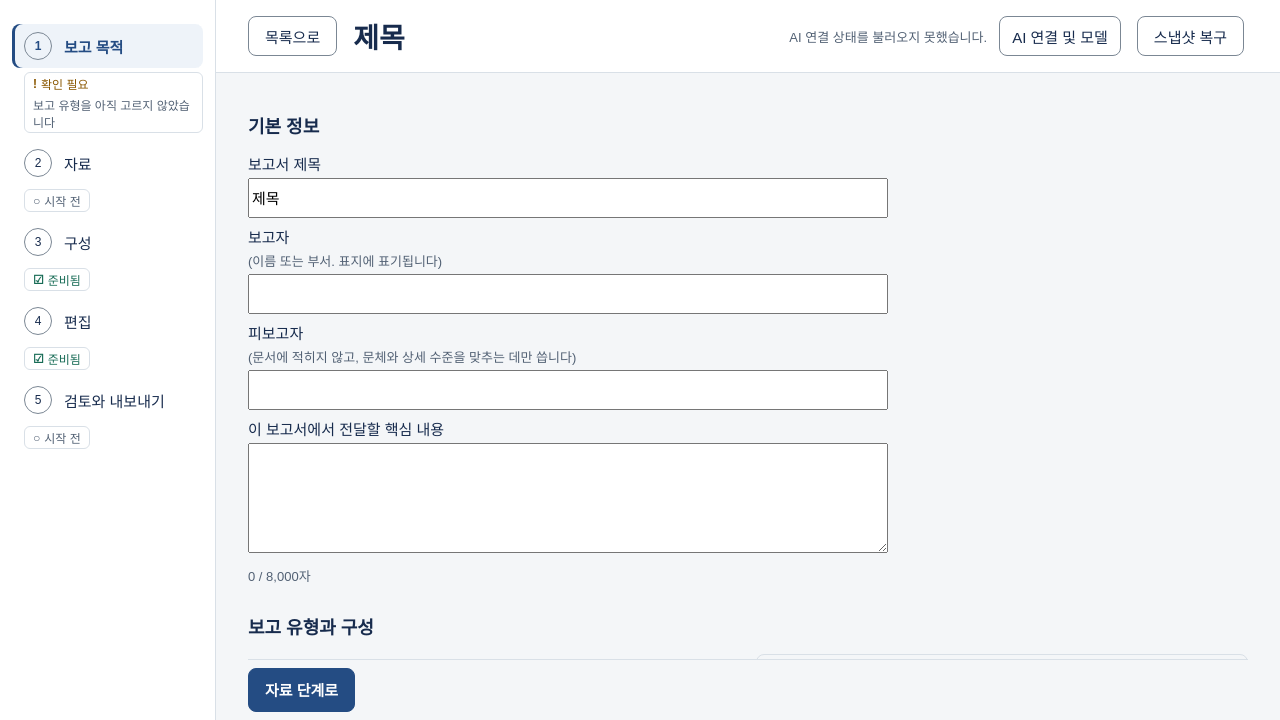
Test: 스냅샷 복구 화면에서는 이력 선택을 잠그고 닫은 뒤 다시 열 수 있다
What coordinates should you click on to do the following:
click the button "스냅샷 복구"
I would click on:
 (1190, 36)
Its box is [1137,16,1244,56].
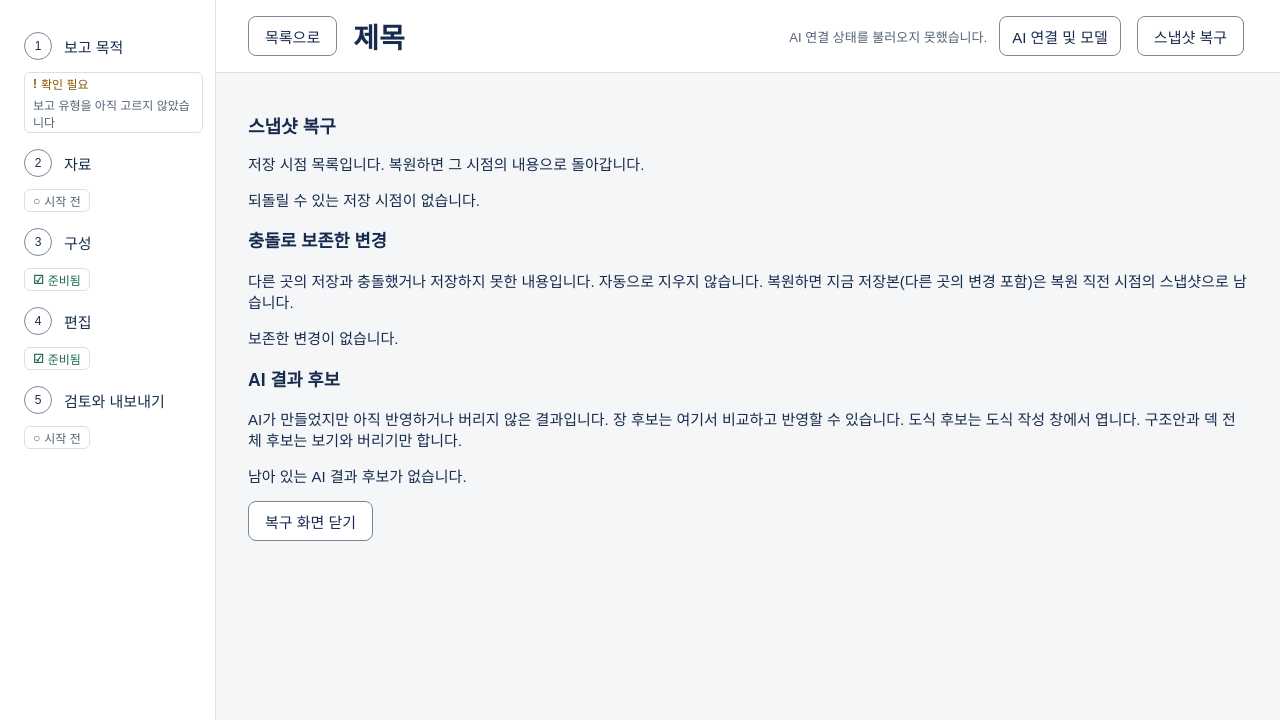
What coordinates should you click on to do the following:
click the button "5 검토와 내보내기"
I would click on:
 (108, 400)
Its box is [12,378,203,422].
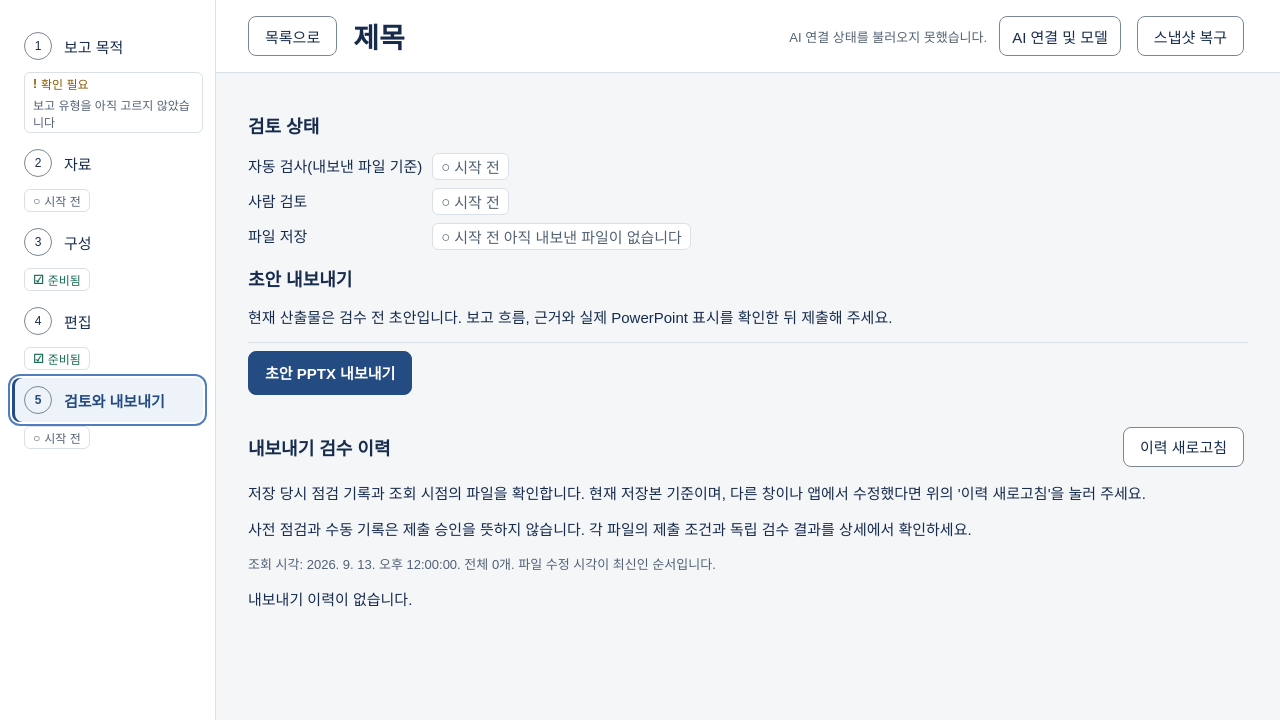
Now the text "내보내기 이력이 없습니다." is shown, box [248,591,412,608]
Now the element with class "recovery-screen" is gone
What coordinates should you click on to do the following:
click the button "스냅샷 복구"
I would click on:
 (1190, 36)
Its box is [1137,16,1244,56].
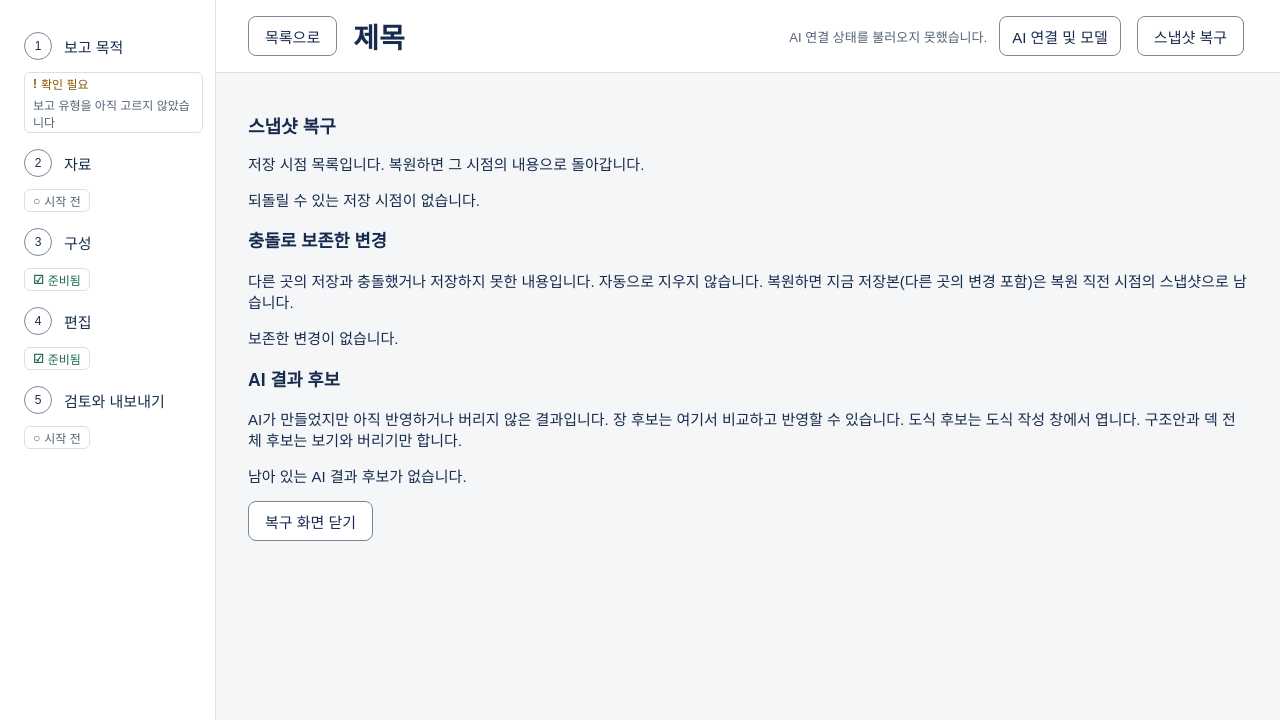
What coordinates should you click on to do the following:
click the button "복구 화면 닫기"
I would click on:
 (311, 521)
Its box is [248,501,373,541].
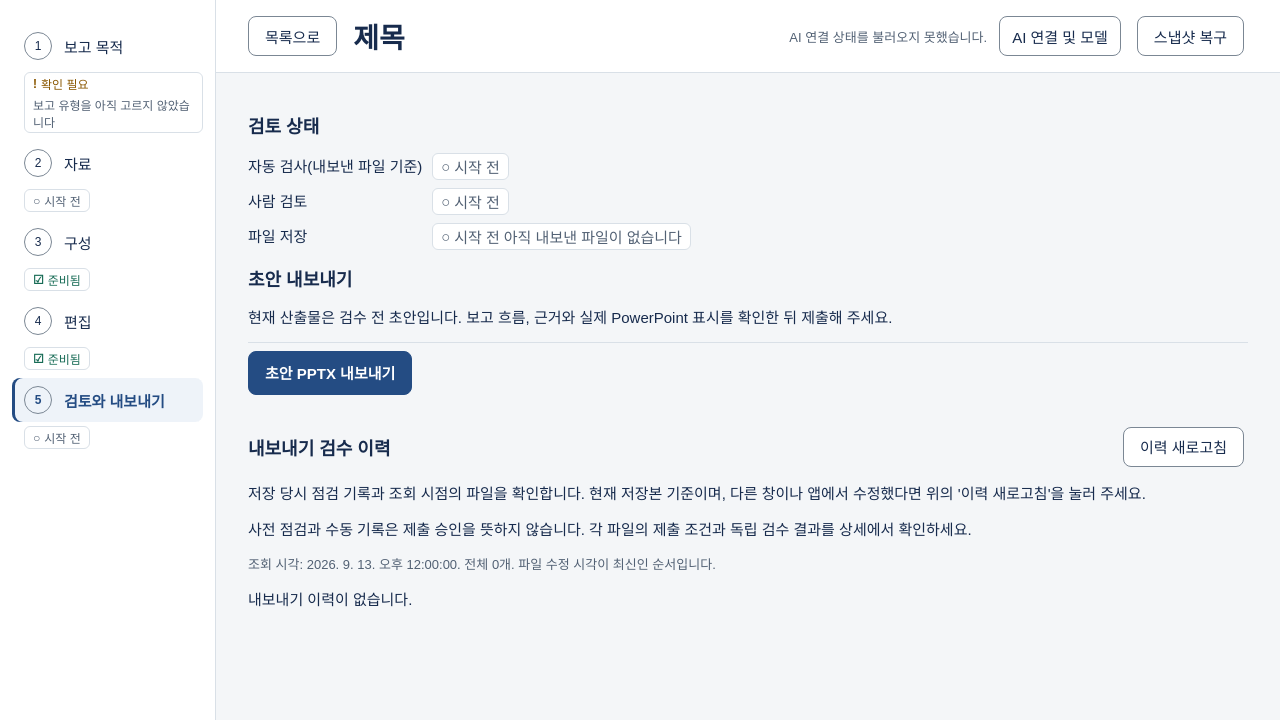
Now the element with class "recovery-screen" is gone
